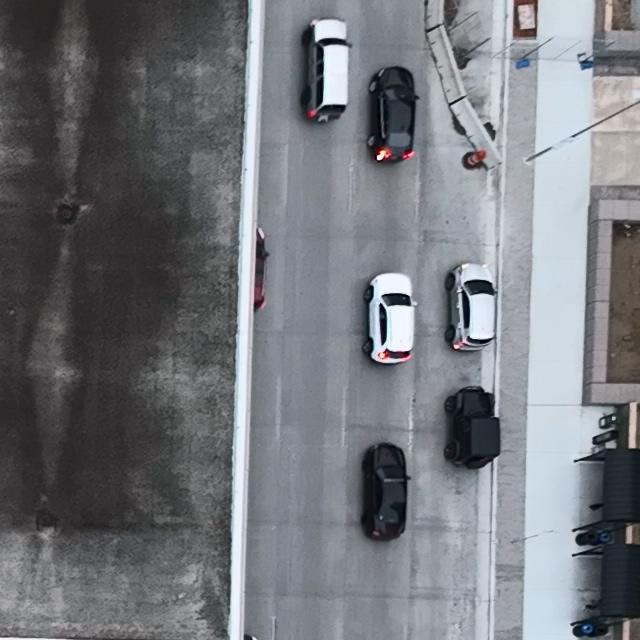car: (301, 17, 352, 124), (367, 65, 419, 165), (364, 273, 417, 366), (361, 443, 410, 542), (445, 261, 498, 352), (444, 386, 500, 471)
